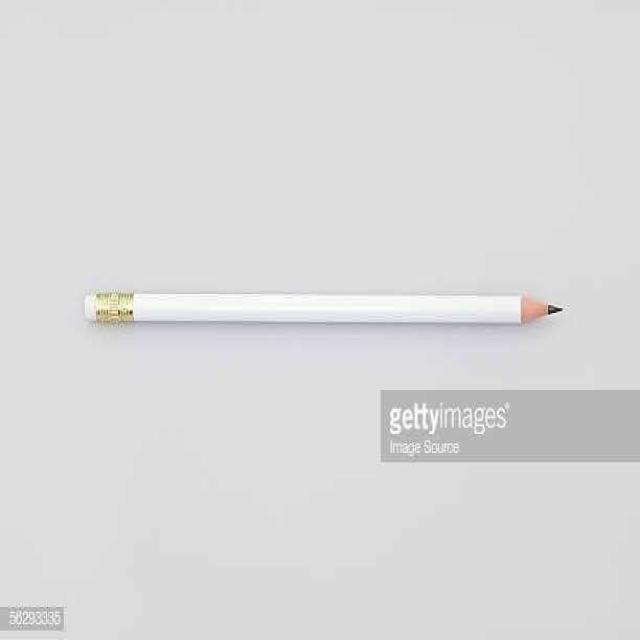pencil: (69, 284, 591, 347)
